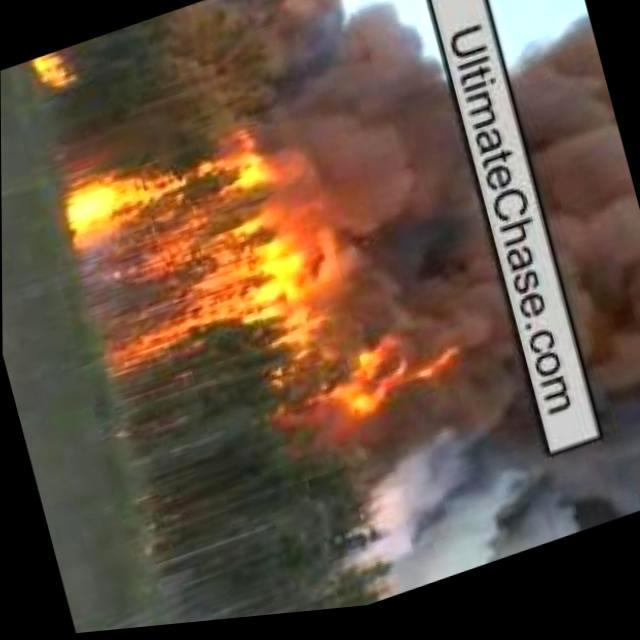fire: (33, 105, 297, 398), (308, 322, 448, 453), (30, 47, 78, 99)
